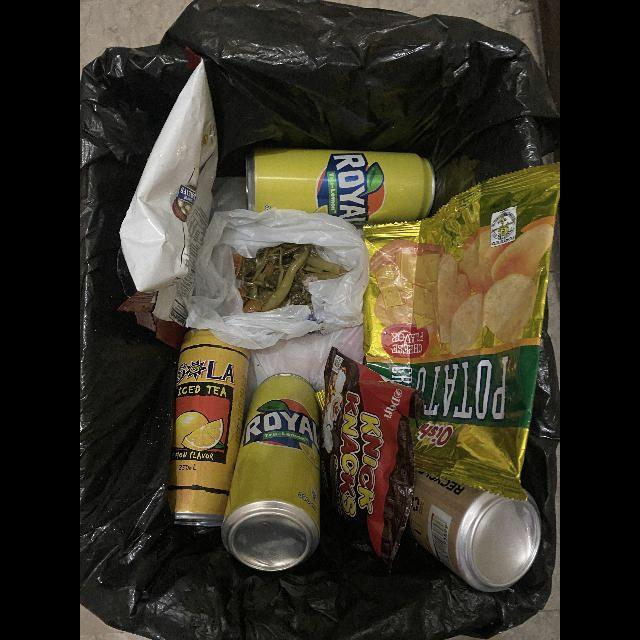aluminum: (221, 374, 322, 577), (165, 330, 250, 528), (409, 471, 542, 593), (247, 148, 437, 230)
food_wrapper: (362, 162, 560, 502), (119, 46, 218, 352), (320, 349, 424, 574)
plastic_bag: (185, 208, 369, 350)
